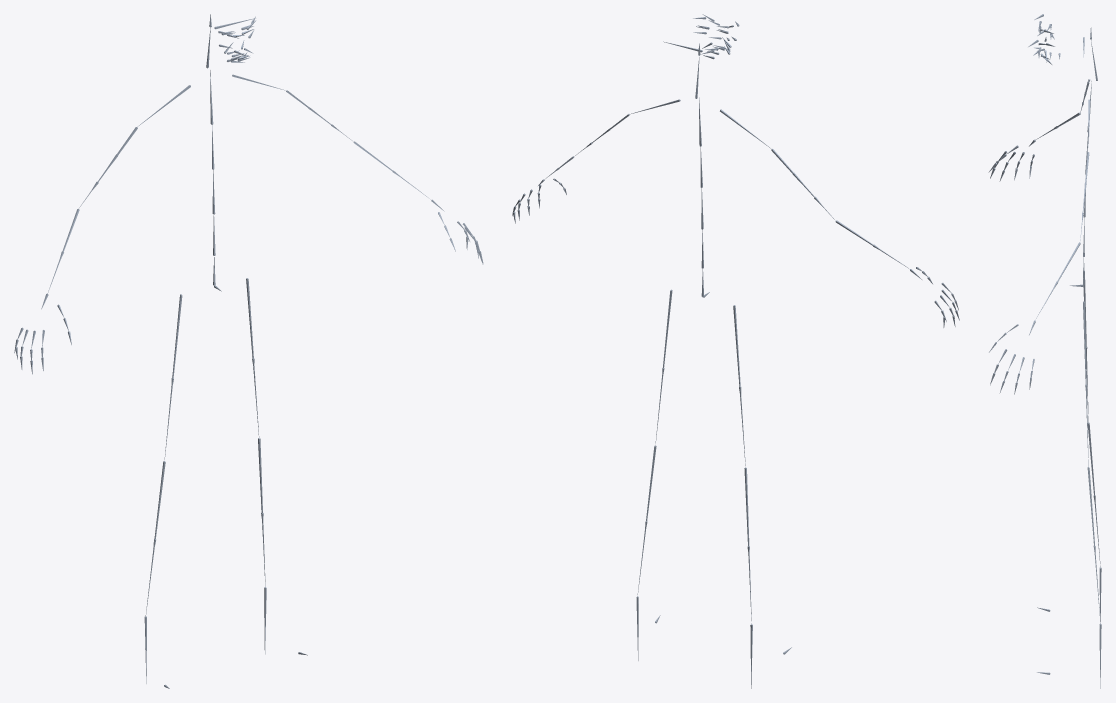
The model's file is Batman1.obj.
3 renders of one model, left to right at view 1: azimuth 30°, elevation 25°; view 2: azimuth 150°, elevation 25°; view 3: azimuth 270°, elevation 25°, orthographic. The views are drawn at different scales.
Parts seen in each view (by area): view 1: no part large enough to name; view 2: no part large enough to name; view 3: Bip01_L_Thigh, Bip01_L_Calf, Bip01_R_Calf, Bip01_R_Thigh.
Boxes of the visible parts, x1=… form: Bip01_L_Thigh: x1=1083, y1=301, x2=1088, y2=466; Bip01_L_Calf: x1=1087, y1=467, x2=1100, y2=623; Bip01_R_Calf: x1=1087, y1=422, x2=1100, y2=566; Bip01_R_Thigh: x1=1083, y1=270, x2=1088, y2=422.
Size of the model in its own units: 142 by 197 by 31.45.
